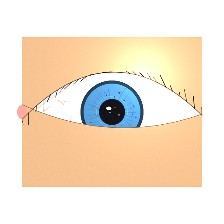pinguecula_lesion: (140, 90, 181, 122)
